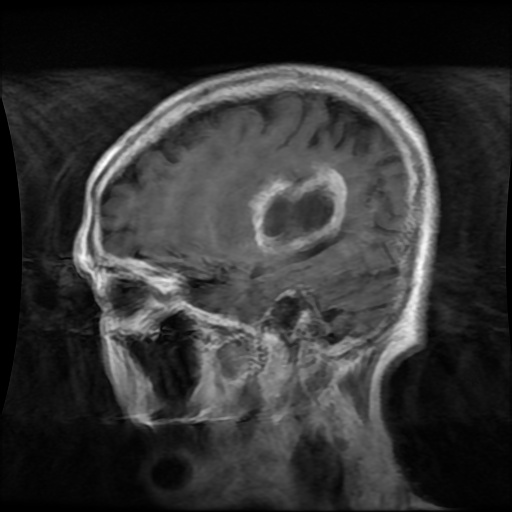glioma: (248, 161, 347, 255)
